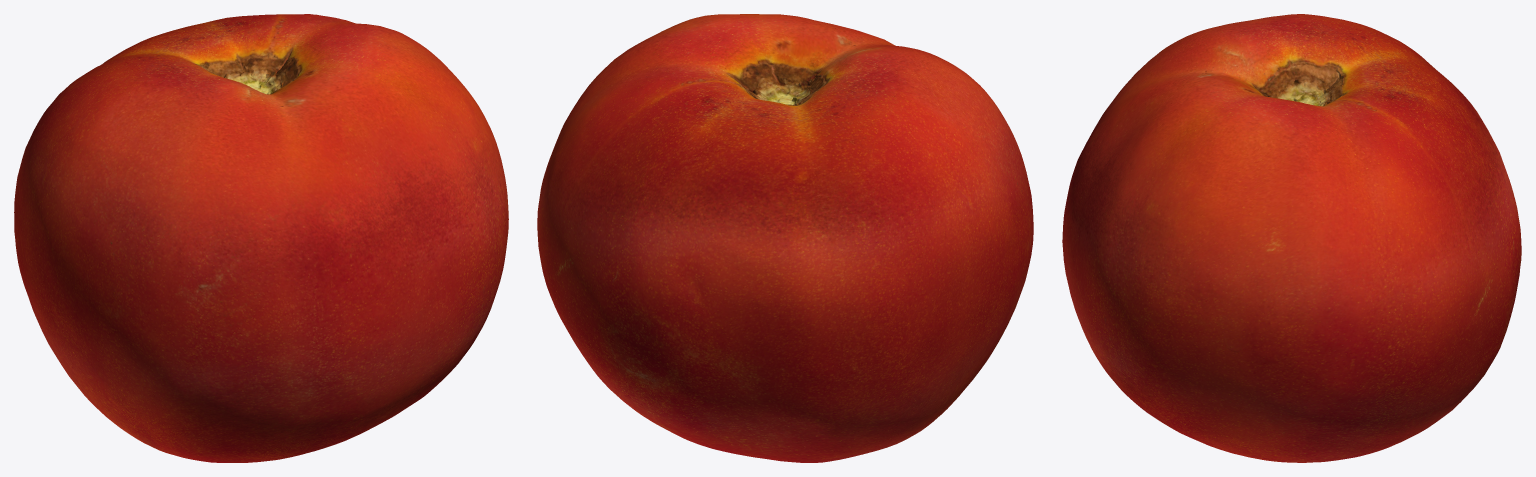
File: tomato.glb
3 views of the same model, side by side, from view 1: azimuth 30°, elevation 25°; view 2: azimuth 150°, elevation 25°; view 3: azimuth 270°, elevation 25° (orthographic). The views are drawn at different scales.
Parts seen in each view (by area): view 1: Model; view 2: Model; view 3: Model.
Part boxes in pixels (box(x1,y1,x2,y2)): Model: box(14, 14, 508, 462); Model: box(537, 14, 1033, 462); Model: box(1062, 14, 1521, 462).
Size of the model in its own units: 1.37 by 1.2 by 1.31.
1 material, 1 textured.
